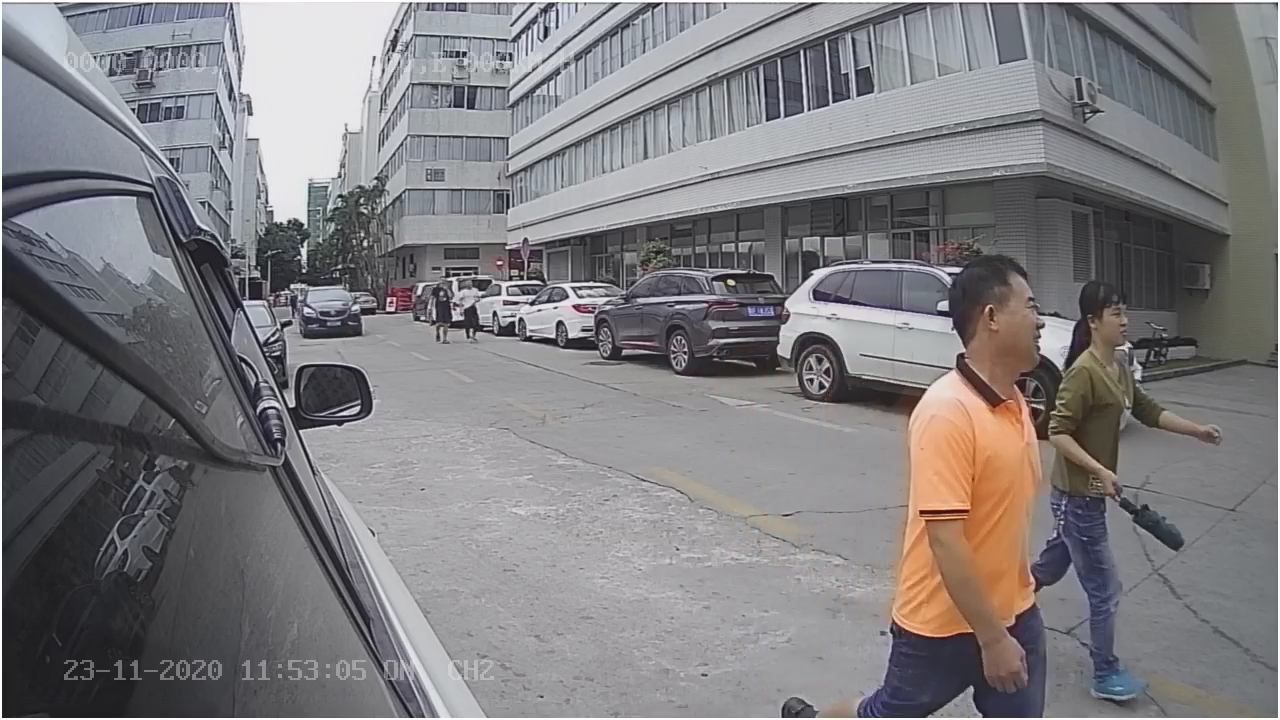person: (896, 261, 1041, 644)
